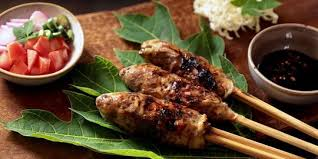sate: (86, 35, 253, 156)
